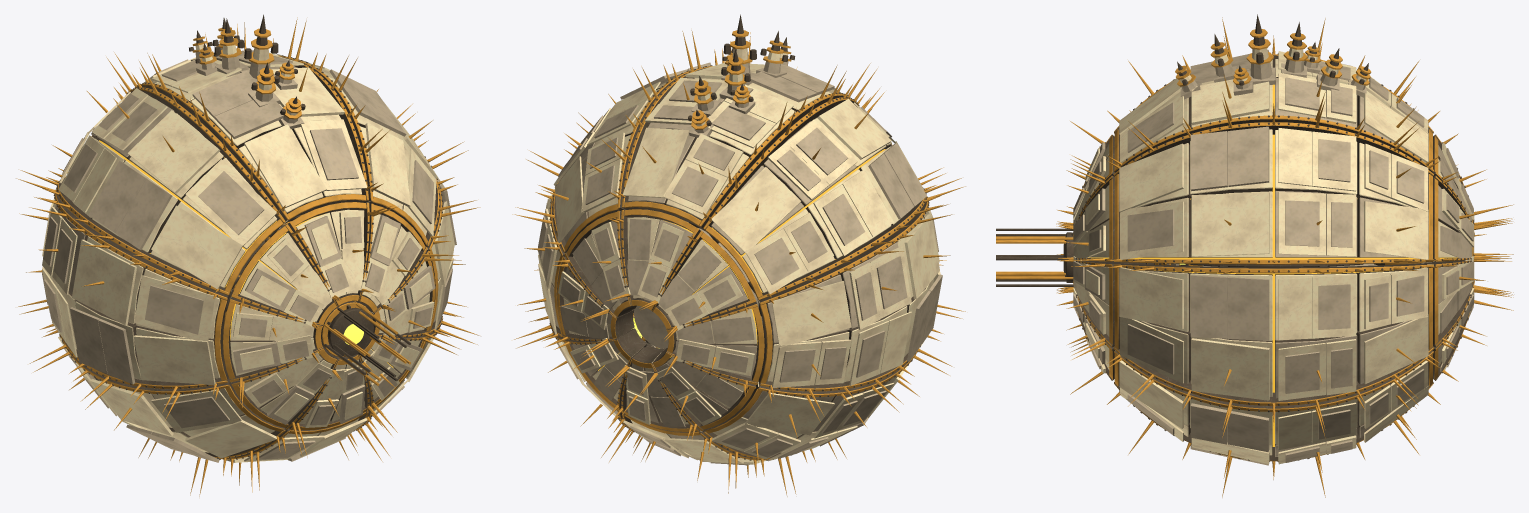
Rendered from weltenkruemmer.aurelianer.rig.klein.glb.
3 views of the same model, side by side, from view 1: azimuth 30°, elevation 25°; view 2: azimuth 150°, elevation 25°; view 3: azimuth 270°, elevation 25° (orthographic). The views are drawn at different scales.
Visible parts, largest first — view 1: platte_01, platte_02, platte_00, platte_03, platte_07, klappe_vorn_01, klappe_vorn_02, klappe_vorn_00, tuerme_oben, klappe_vorn_03, klappe_vorn_07, klappe_vorn_04 (+8 smaller); view 2: platte_01, platte_02, platte_00, platte_03, platte_07, klappe_hinten_01, klappe_hinten_02, klappe_hinten_00, klappe_hinten_03, klappe_hinten_07, tuerme_oben, klappe_hinten_04 (+6 smaller); view 3: platte_07, platte_06, platte_00, platte_05, tuerme_oben, klappe_hinten_07, klappe_hinten_06, klappe_vorn_06, klappe_vorn_07, klappe_vorn_00, klappe_hinten_00, spindel_1 (+4 smaller).
Part boxes in pixels (x1=…): platte_01: x1=20, y1=57, x2=285, y2=295; platte_02: x1=16, y1=177, x2=230, y2=412; platte_00: x1=114, y1=17, x2=382, y2=224; platte_03: x1=19, y1=306, x2=285, y2=495; platte_07: x1=244, y1=20, x2=476, y2=246; klappe_vorn_01: x1=225, y1=220, x2=339, y2=327; klappe_vorn_02: x1=222, y1=297, x2=323, y2=403; klappe_vorn_00: x1=288, y1=202, x2=391, y2=306; tuerme_oben: x1=189, y1=14, x2=305, y2=129; klappe_vorn_03: x1=231, y1=347, x2=340, y2=455; klappe_vorn_07: x1=356, y1=203, x2=458, y2=312; klappe_vorn_04: x1=289, y1=354, x2=391, y2=457; platte_01: x1=703, y1=68, x2=961, y2=300; platte_02: x1=757, y1=185, x2=965, y2=416; platte_00: x1=608, y1=30, x2=870, y2=231; platte_03: x1=703, y1=311, x2=962, y2=494; platte_07: x1=515, y1=31, x2=717, y2=252; klappe_hinten_01: x1=641, y1=227, x2=762, y2=338; klappe_hinten_02: x1=664, y1=302, x2=764, y2=392; klappe_hinten_00: x1=607, y1=209, x2=700, y2=310; klappe_hinten_03: x1=641, y1=348, x2=756, y2=439; klappe_hinten_07: x1=554, y1=210, x2=636, y2=319; tuerme_oben: x1=688, y1=14, x2=795, y2=137; klappe_hinten_04: x1=607, y1=344, x2=699, y2=440; platte_07: x1=1108, y1=100, x2=1439, y2=264; platte_06: x1=1107, y1=263, x2=1439, y2=430; platte_00: x1=1107, y1=18, x2=1439, y2=172; platte_05: x1=1107, y1=350, x2=1440, y2=497; tuerme_oben: x1=1175, y1=14, x2=1371, y2=99; klappe_hinten_07: x1=1433, y1=175, x2=1512, y2=261; klappe_hinten_06: x1=1414, y1=256, x2=1513, y2=347; klappe_vorn_06: x1=1057, y1=256, x2=1132, y2=355; klappe_vorn_07: x1=1056, y1=168, x2=1114, y2=261; klappe_vorn_00: x1=1056, y1=122, x2=1114, y2=234; klappe_hinten_00: x1=1432, y1=134, x2=1512, y2=235; spindel_1: x1=996, y1=228, x2=1113, y2=286.
Size of the model in its own units: 2.27 by 2.51 by 2.61.
6 materials, 4 textured.
